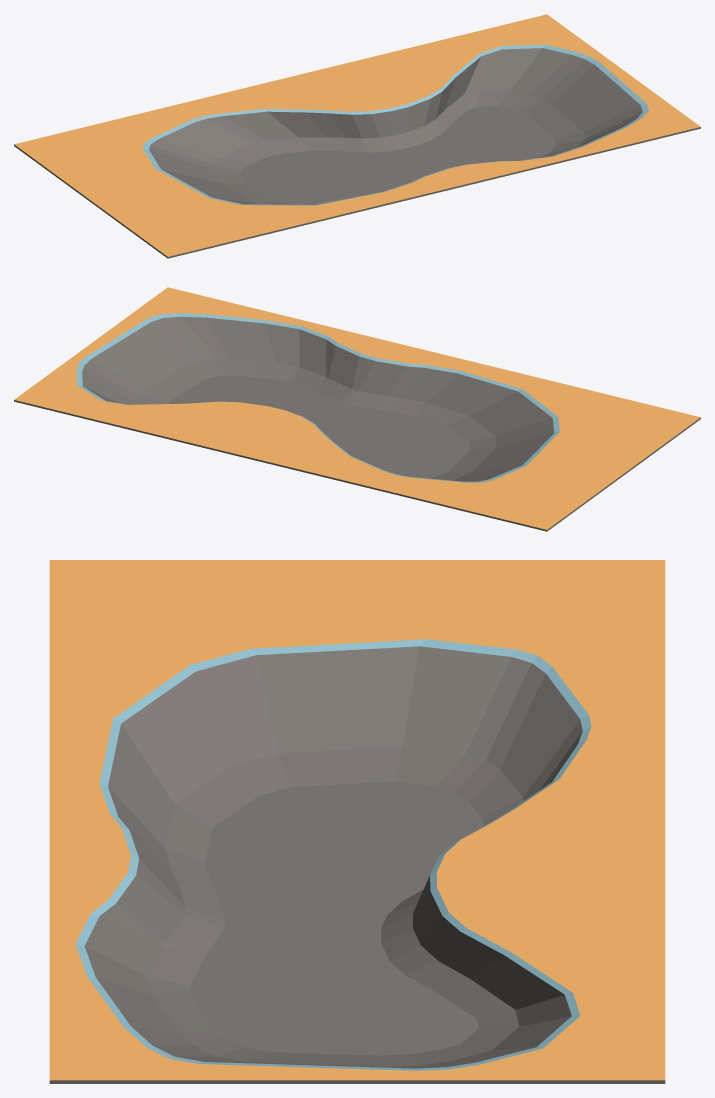
Rendered from SM_skate_playground_01.glb.
The picture shows the model from 3 angles, top to bottom: view 1: azimuth 30°, elevation 25°; view 2: azimuth 150°, elevation 25°; view 3: azimuth 270°, elevation 25°; orthographic projection. The views are drawn at different scales.
Visible parts, largest first — view 1: SM_skate_playground_01; view 2: SM_skate_playground_01; view 3: SM_skate_playground_01.
Part boxes in pixels (x1,y1,x2,y2): SM_skate_playground_01: (14,14,700,258); SM_skate_playground_01: (14,287,700,531); SM_skate_playground_01: (49,560,665,1083).
Bounding box in the file's own units: 32 × 1.74 × 16.
1 material, 1 textured.
